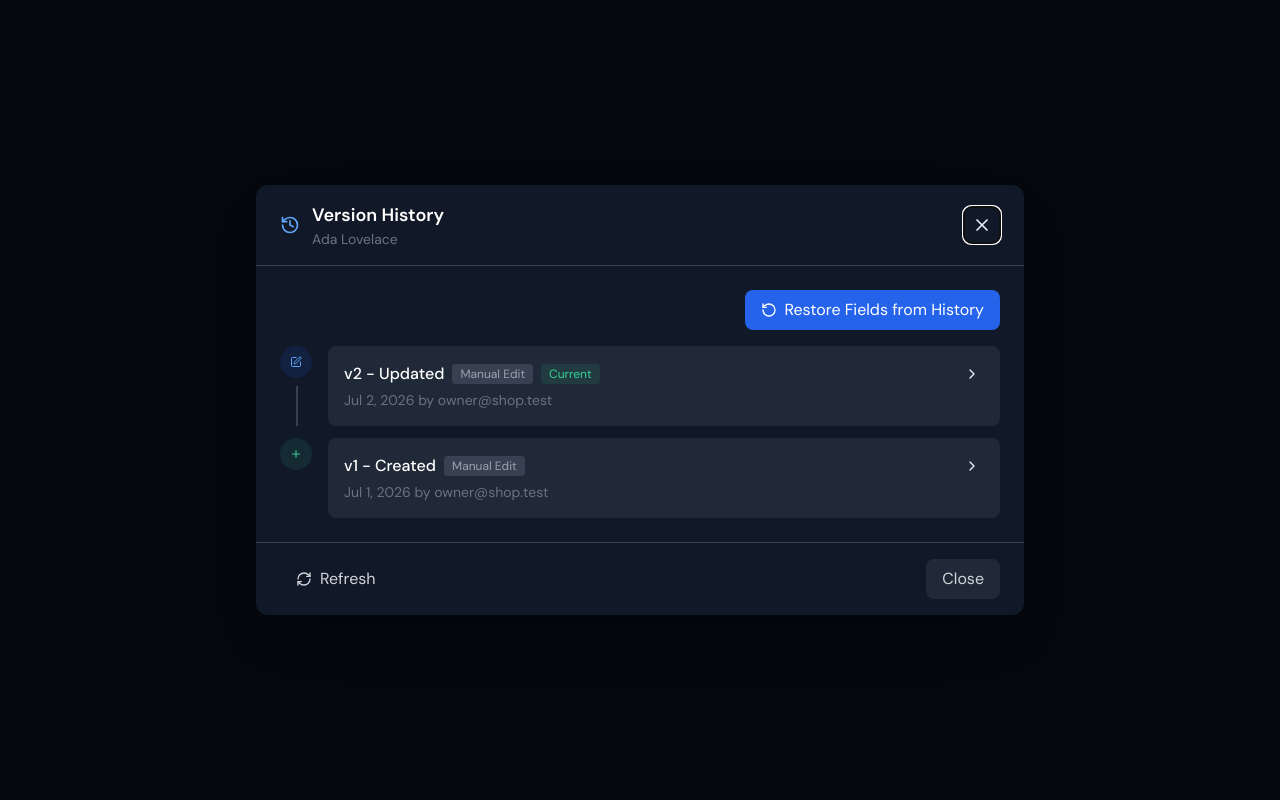
Test: RecordHistoryModal a11y › version toggle exposes aria-expanded
Expected: the dialog is shown, [256,185,1024,615]
Click the button named "Show details for version 2" at {"x": 972, "y": 374}, box [960,362,984,386]
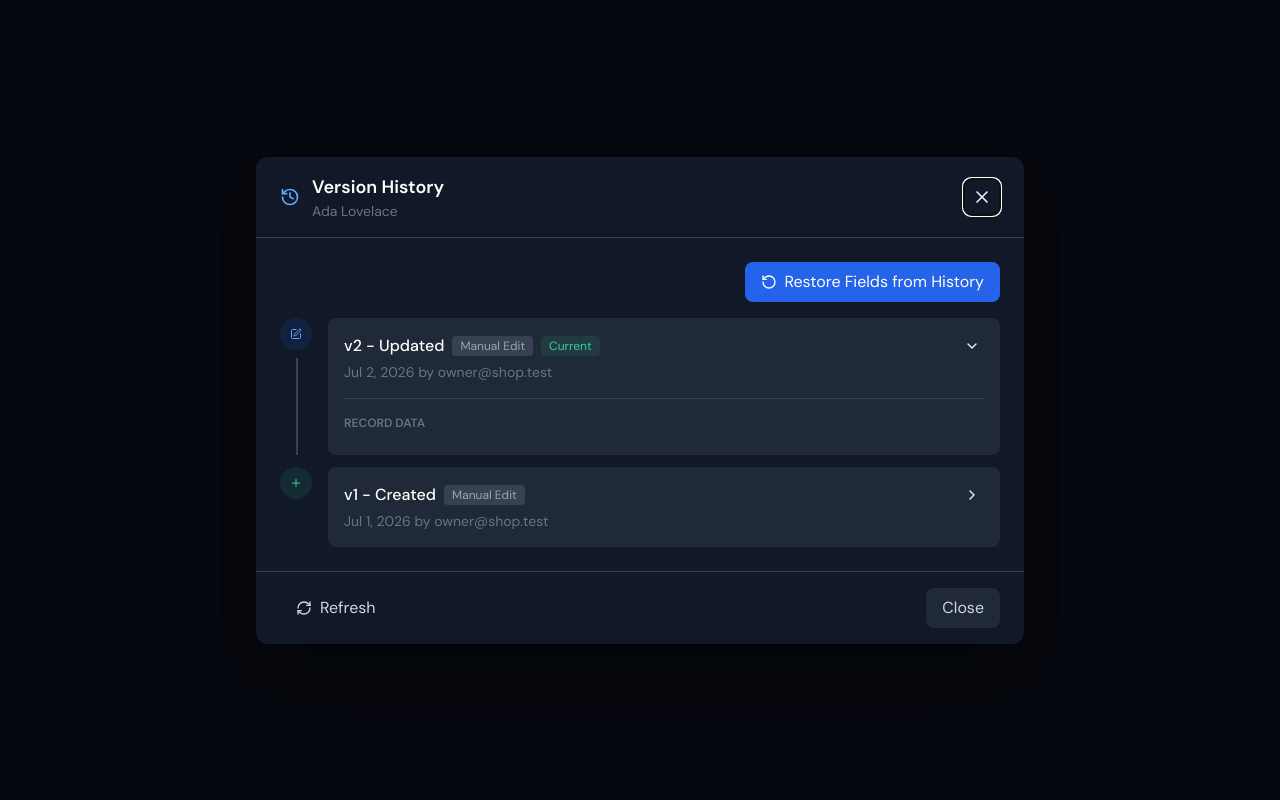
Expected: the button named "Hide details for version 2" is expanded, [960,334,984,358]
